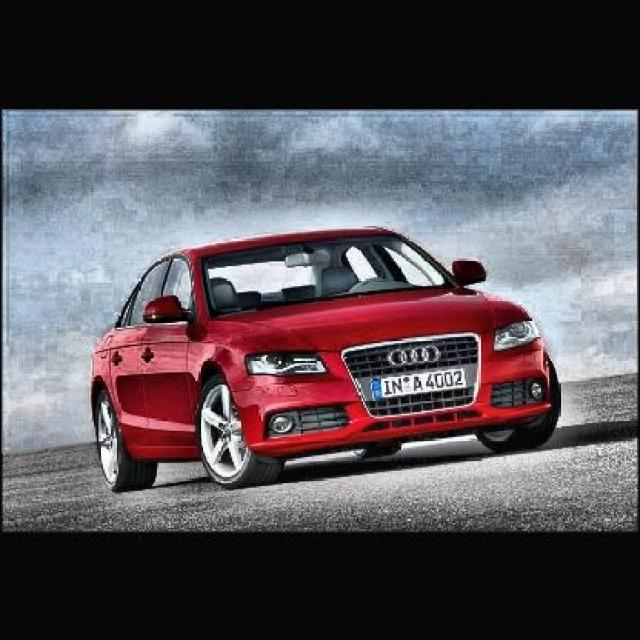red: (71, 222, 640, 483)
